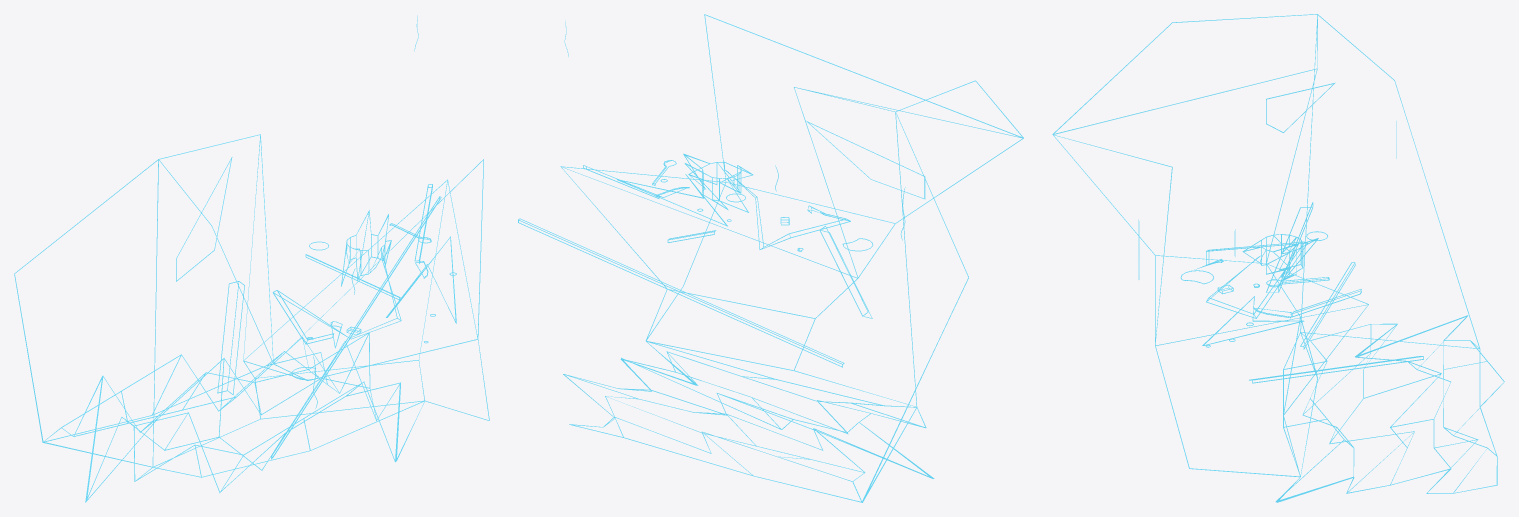
The model's file is perspective.glb.
3 renders of one model, left to right at view 1: azimuth 30°, elevation 25°; view 2: azimuth 150°, elevation 25°; view 3: azimuth 270°, elevation 25°, orthographic. The views are drawn at different scales.
Visible parts, largest first — view 1: Cube.007, Cube.009; view 2: Cube.007, Cube.009; view 3: Cube.007, Cube.009.
Boxes of the visible parts, left/top/right/bottom form: Cube.007: left=14, top=134, right=489, bottom=502; Cube.009: left=217, top=184, right=456, bottom=459; Cube.007: left=560, top=14, right=1023, bottom=502; Cube.009: left=518, top=153, right=873, bottom=367; Cube.007: left=1052, top=14, right=1504, bottom=502; Cube.009: left=1180, top=202, right=1423, bottom=383.
Size of the model in its own units: 323 by 274 by 265.
